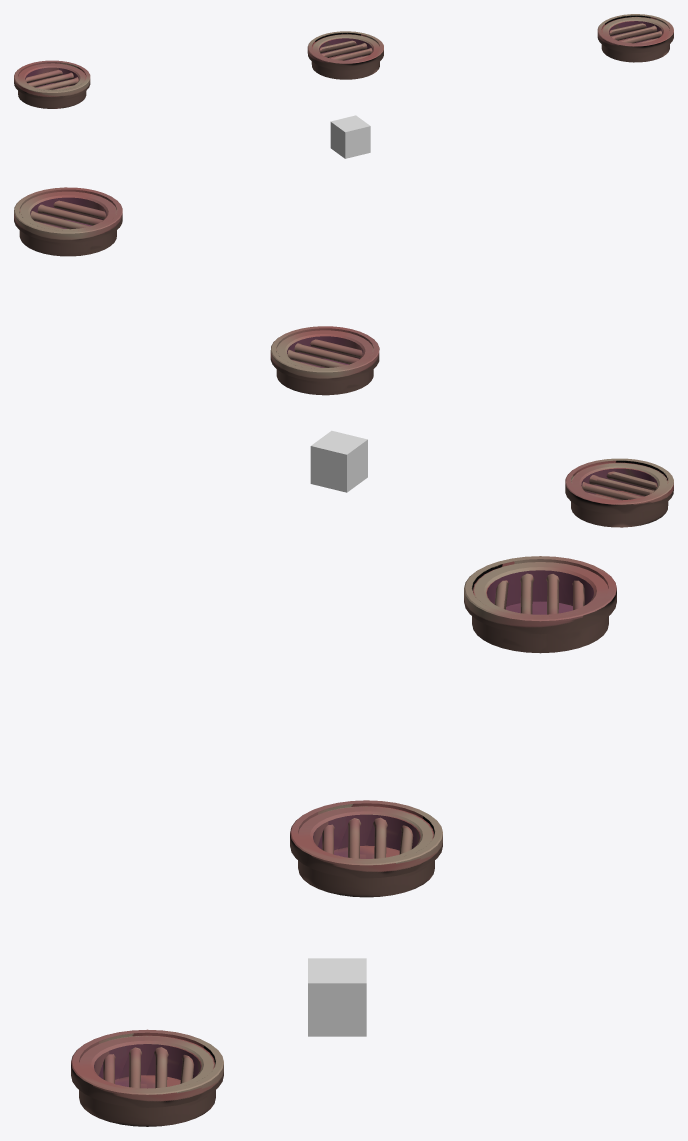
Rendered from battlescence-1-floor005.fbx.
3 renders of one model, top to bottom at view 1: azimuth 30°, elevation 25°; view 2: azimuth 150°, elevation 25°; view 3: azimuth 270°, elevation 25°, orthographic. The views are drawn at different scales.
Parts seen in each view (by area): view 1: Cylinder.006, Cylinder.009, Cylinder.011, battlescence-1-floor005; view 2: Cylinder.009, Cylinder.006, Cylinder.011, battlescence-1-floor005; view 3: Cylinder.009, Cylinder.011, Cylinder.006, battlescence-1-floor005.
Part boxes in pixels (bbox=[...]): Cylinder.006: bbox=[597, 14, 673, 62]; Cylinder.009: bbox=[307, 31, 383, 79]; Cylinder.011: bbox=[14, 60, 90, 108]; battlescence-1-floor005: bbox=[330, 115, 370, 158]; Cylinder.009: bbox=[270, 326, 379, 395]; Cylinder.006: bbox=[14, 187, 122, 256]; Cylinder.011: bbox=[565, 458, 673, 527]; battlescence-1-floor005: bbox=[310, 430, 367, 492]; Cylinder.009: bbox=[290, 800, 442, 897]; Cylinder.011: bbox=[464, 556, 616, 653]; Cylinder.006: bbox=[71, 1029, 223, 1126]; battlescence-1-floor005: bbox=[308, 958, 366, 1036].
Bounding box in the file's own units: 2728 × 460 × 1170.
